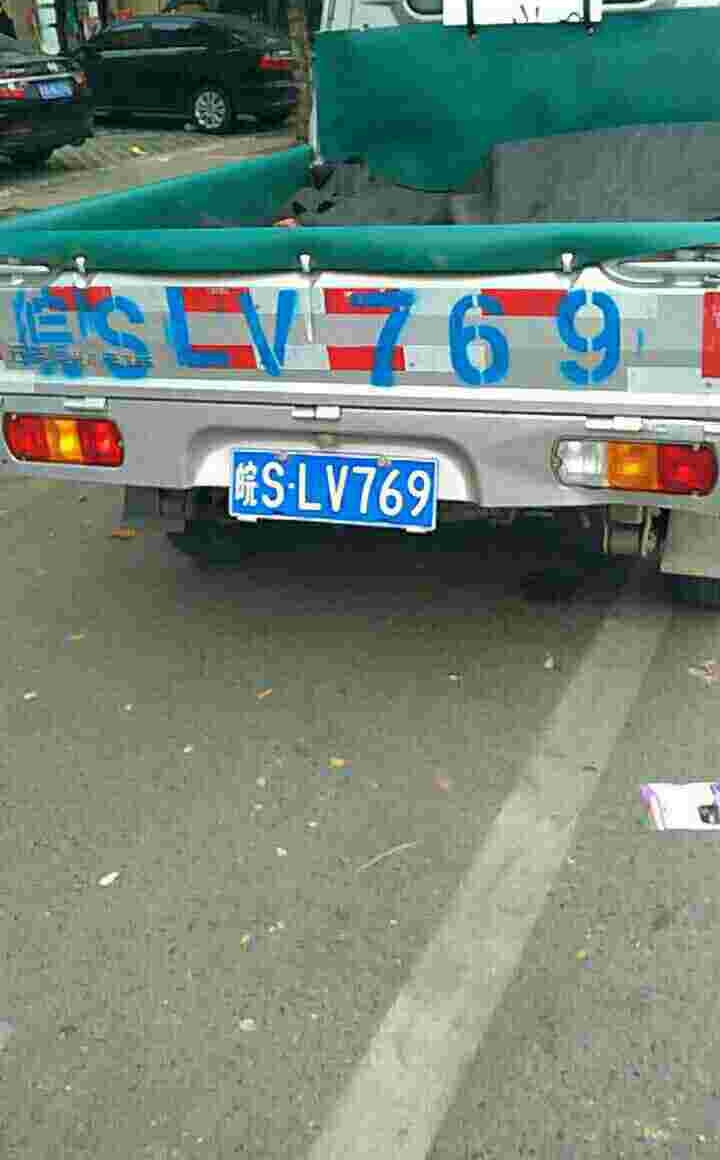license_plate: (224, 460, 445, 527)
